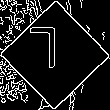L_S: (39, 29, 71, 81)
